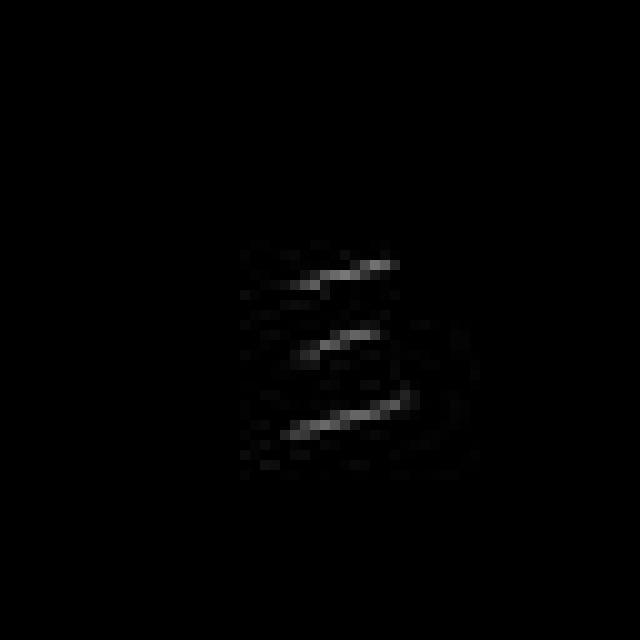3 -three-: (251, 239, 425, 456)
